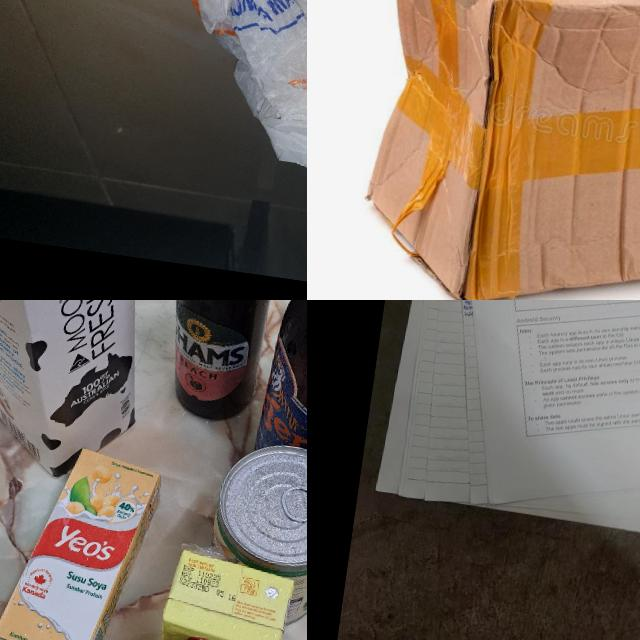aba de lata: (279, 476, 307, 532)
caixinha: (0, 442, 163, 640), (0, 300, 169, 489), (152, 545, 294, 640)
garrafa de vidro: (156, 300, 287, 426)
lata: (200, 435, 307, 633)
papel: (381, 300, 640, 543)
papelão: (350, 0, 640, 300)
sacola plástica: (143, 0, 307, 202)
